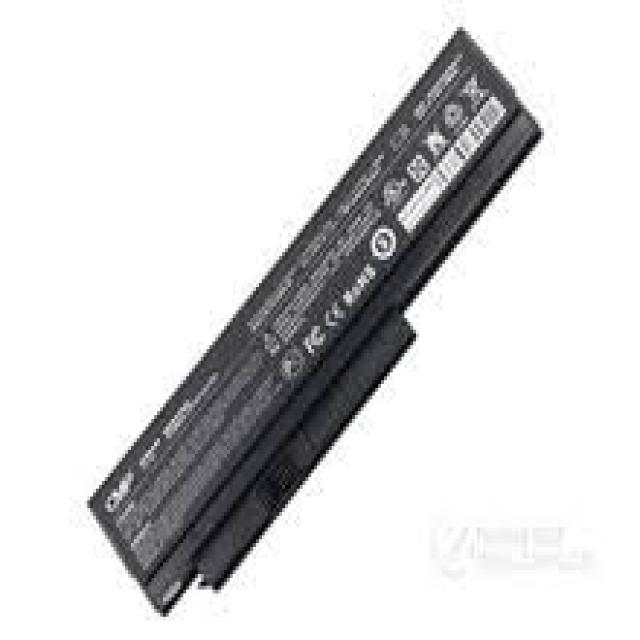Battery: (39, 2, 551, 622)
